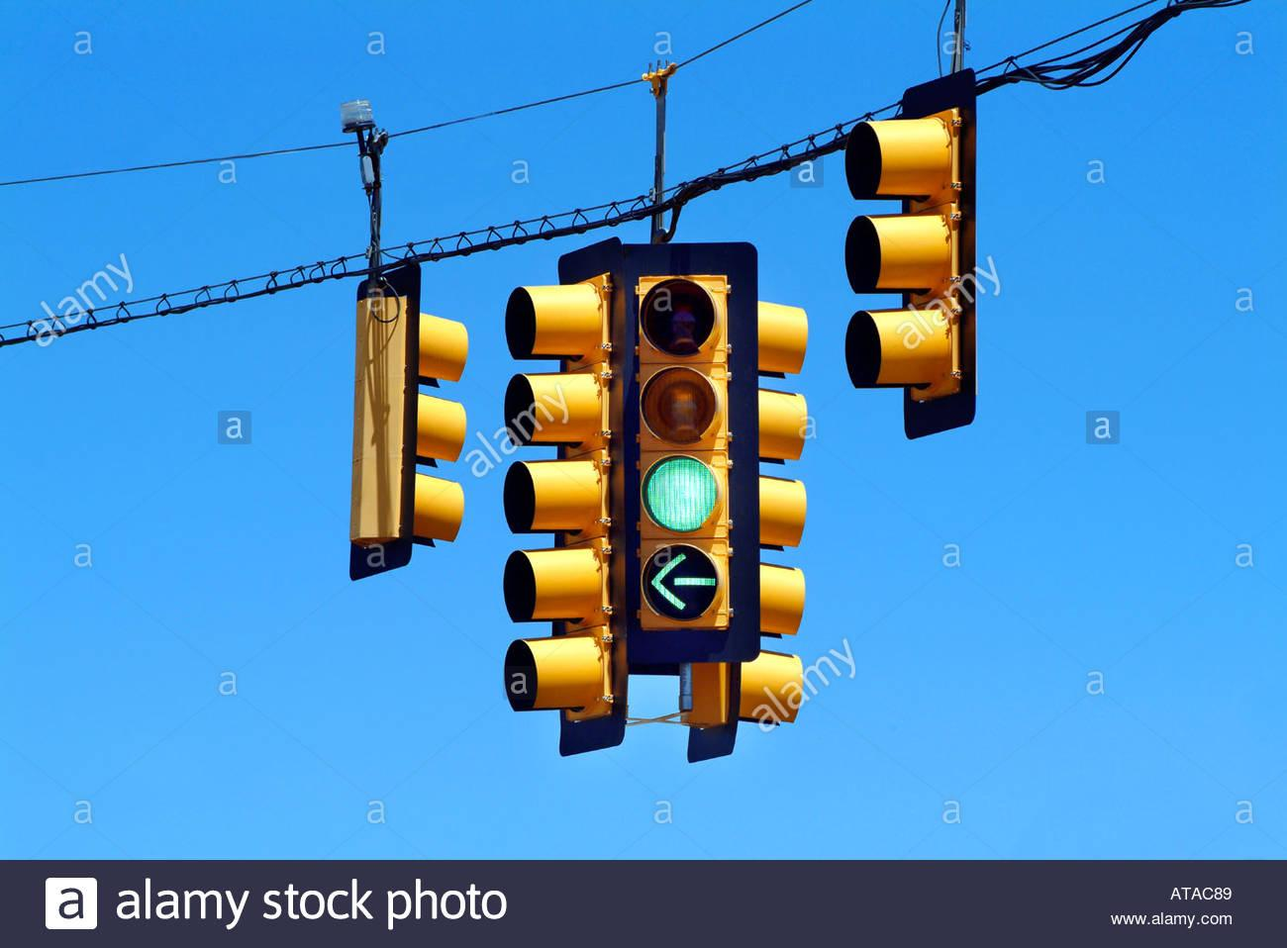Traffic light green: (621, 247, 752, 646)
